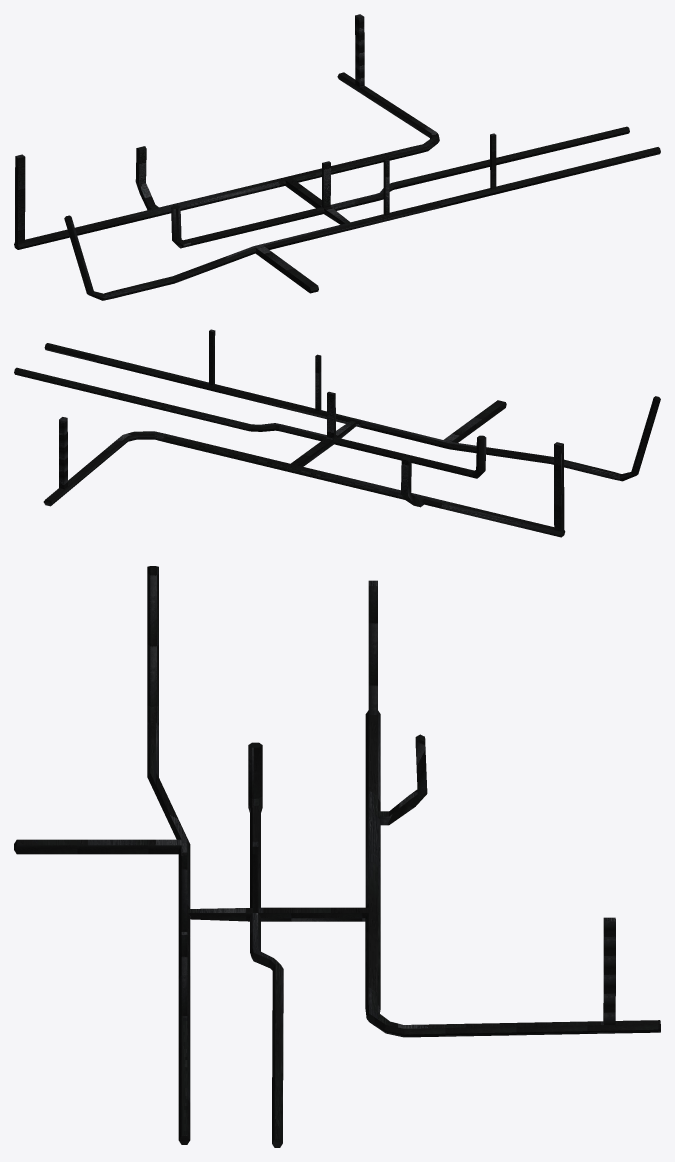
Rendered from pipes.glb.
3 views of the same model, one above another, from view 1: azimuth 30°, elevation 25°; view 2: azimuth 150°, elevation 25°; view 3: azimuth 270°, elevation 25° (orthographic). The views are drawn at different scales.
Parts seen in each view (by area): view 1: Cylinder; view 2: Cylinder; view 3: Cylinder.
Boxes of the visible parts, x1,y1,x2,y2 form: Cylinder: (14, 14, 660, 300); Cylinder: (14, 329, 660, 537); Cylinder: (14, 566, 660, 1147).
Size of the model in its own units: 69.41 by 10.29 by 42.72.
Materials: 1 (1 with a texture image).
